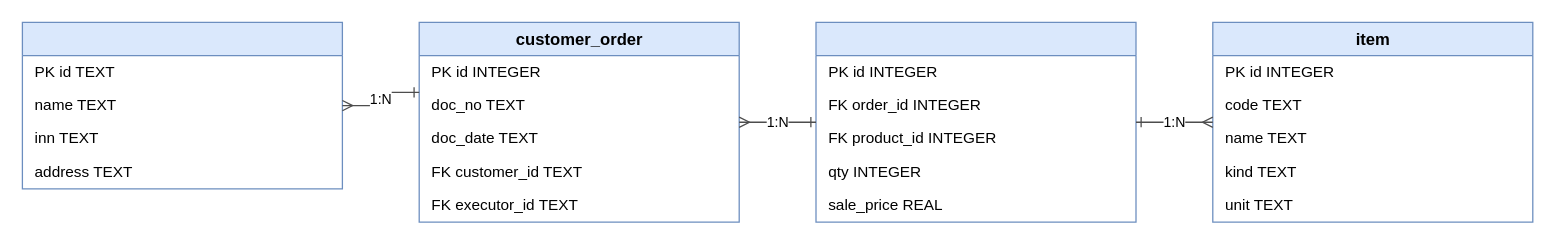
The diagram is 1555 pixels wide and 244 high, and some of its shapes have lost their labels. The box of each missing label's shape, as (x1, y1, x2, y2) in pixels:
counterparty: (21, 21, 342, 189)
customer_order_line: (815, 21, 1136, 222)
